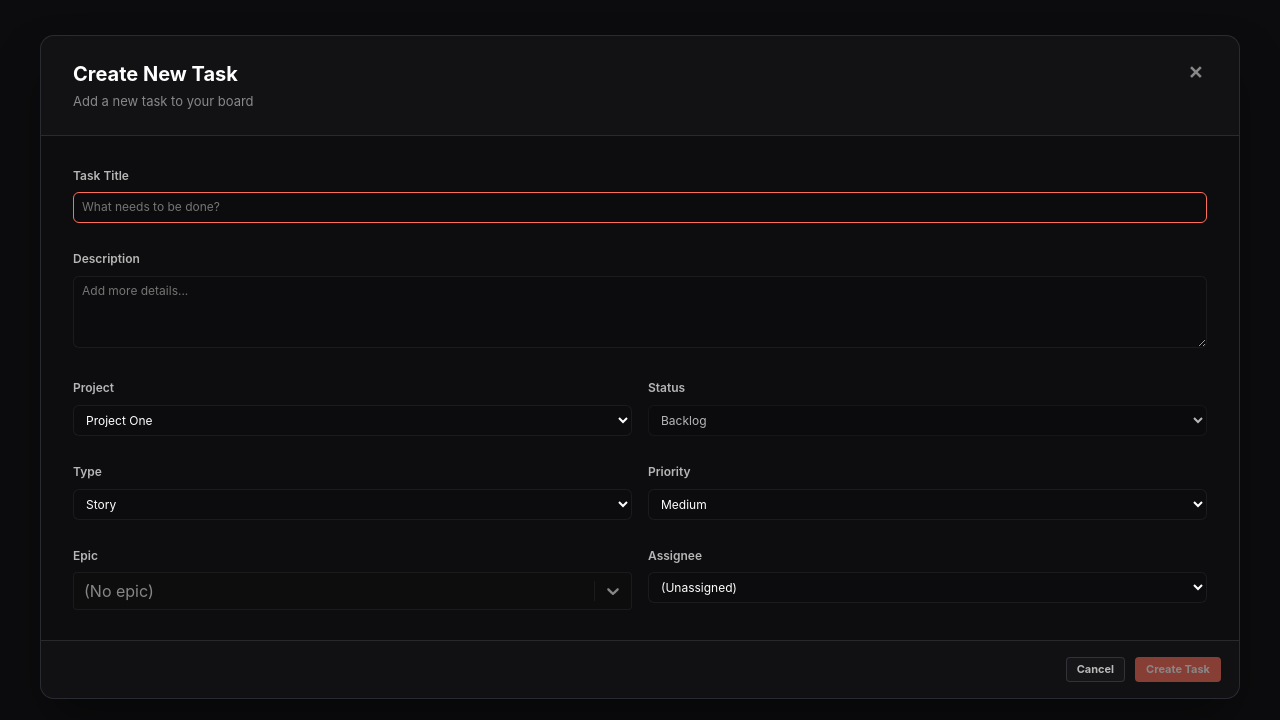
Scenario: displays Epic color field when type is epic
The width and height of the screenshot is (1280, 720).
Select "Epic" in the dropdown labelled "Type": (352, 504) [73,489,632,520]
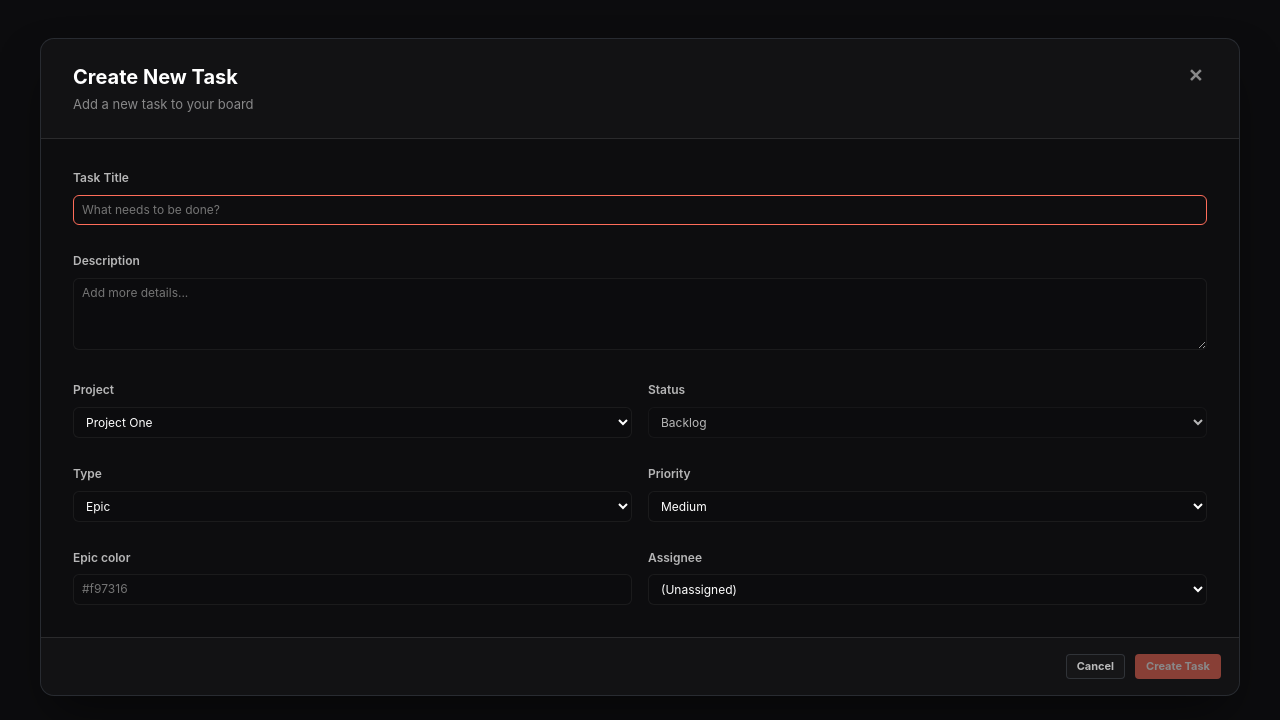
Expected: the field labelled "Epic color" is shown, [73,574,632,605]
